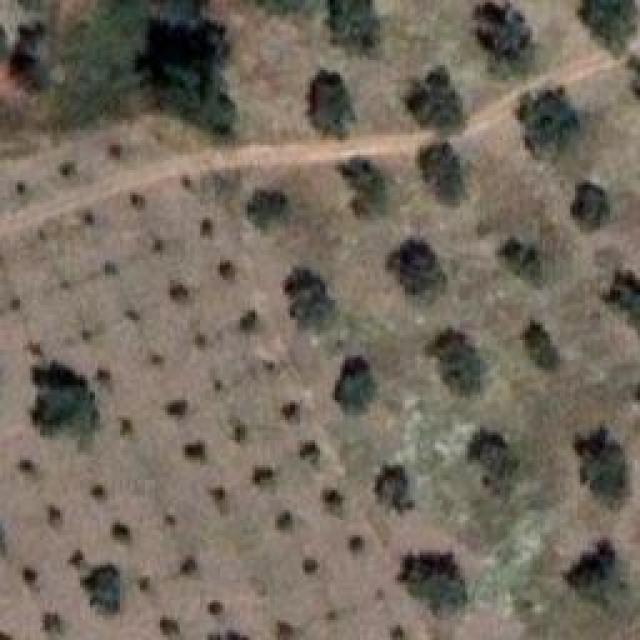Tree: (33, 362, 99, 442), (575, 428, 630, 510), (515, 88, 580, 154), (398, 552, 468, 612), (405, 65, 464, 132), (428, 330, 484, 396), (307, 70, 355, 140), (388, 238, 447, 294), (478, 3, 531, 61), (582, 0, 637, 54), (338, 158, 387, 218), (285, 267, 336, 322), (330, 0, 381, 52), (565, 540, 615, 590), (335, 355, 378, 411), (423, 143, 461, 206), (605, 270, 640, 330), (468, 427, 509, 477), (83, 565, 122, 615), (570, 183, 610, 231), (375, 465, 414, 511), (500, 238, 539, 284), (523, 320, 558, 370), (248, 190, 288, 230), (298, 438, 324, 466), (183, 443, 208, 467), (318, 488, 345, 510), (40, 610, 62, 636), (270, 510, 295, 532), (153, 615, 177, 637), (198, 215, 218, 241), (17, 565, 38, 587), (277, 400, 298, 422), (182, 553, 202, 576), (240, 308, 259, 332), (343, 532, 365, 552), (202, 595, 222, 617), (15, 460, 37, 480), (67, 547, 88, 567), (253, 463, 272, 485), (103, 140, 125, 159), (210, 482, 230, 502), (166, 397, 186, 417), (110, 523, 131, 542), (58, 160, 77, 180), (300, 558, 320, 577), (170, 283, 192, 299), (128, 192, 145, 212), (275, 622, 293, 640), (218, 257, 234, 277), (385, 623, 403, 640), (88, 483, 106, 500)
